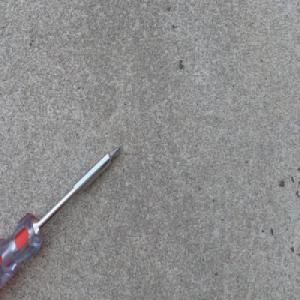Screwdriver: (0, 145, 122, 288)
